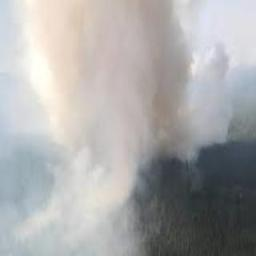Heavy smoke: (1, 0, 256, 256)
